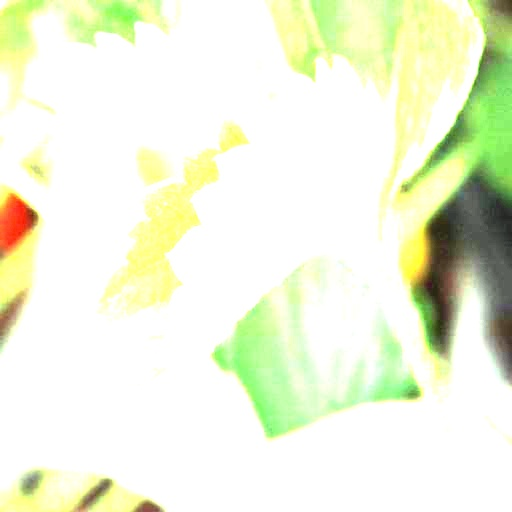Powdery Mildew Leaf: (85, 53, 395, 438)
